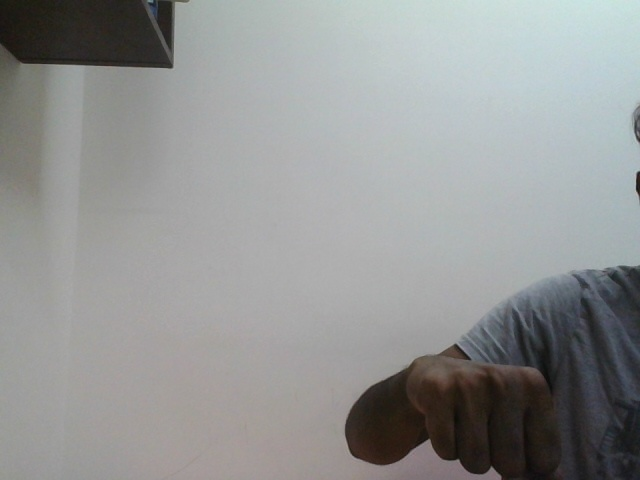Yes: (423, 365, 565, 477)
